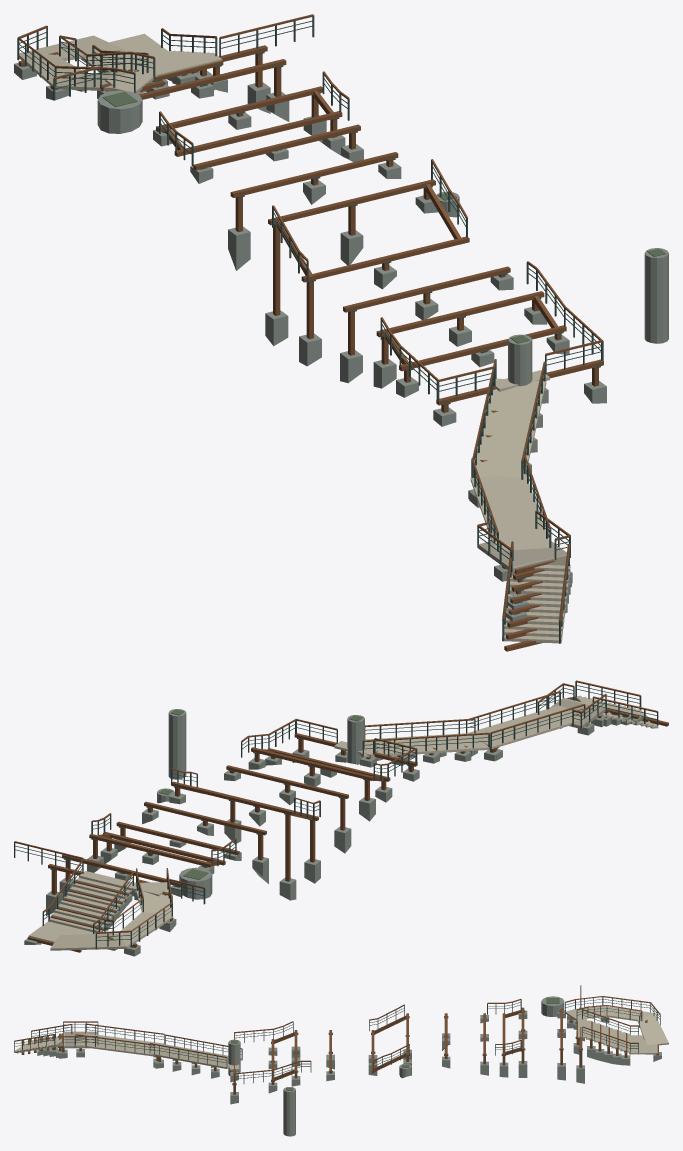
The model's file is common-interface.glb.
3 renders of one model, top to bottom at view 1: azimuth 30°, elevation 25°; view 2: azimuth 150°, elevation 25°; view 3: azimuth 270°, elevation 25°, orthographic. The views are drawn at different scales.
Parts seen in each view (by area): view 1: CommonStructure, CommonWalkable; view 2: CommonStructure, CommonWalkable; view 3: CommonStructure, CommonWalkable.
Part boxes in pixels (left/top/right/bottom): CommonStructure: left=14, top=14, right=668, bottom=651; CommonWalkable: left=19, top=33, right=570, bottom=643; CommonStructure: left=14, top=680, right=668, bottom=956; CommonWalkable: left=28, top=695, right=658, bottom=950; CommonStructure: left=14, top=985, right=661, bottom=1136; CommonWalkable: left=14, top=1006, right=668, bottom=1070.
Size of the model in its own units: 26 by 9.11 by 68.1.
